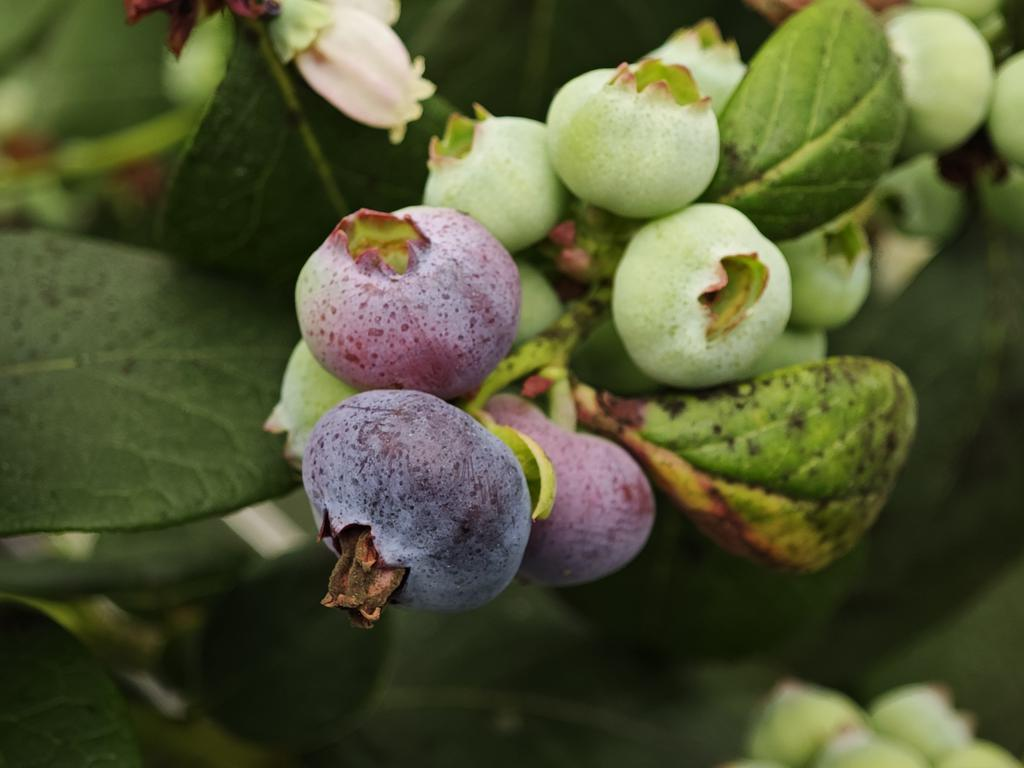Semi-RipeBlueBerry: (303, 387, 530, 606), (296, 206, 519, 390)
UnripeBlueBerry: (618, 201, 797, 380), (552, 56, 726, 219)
